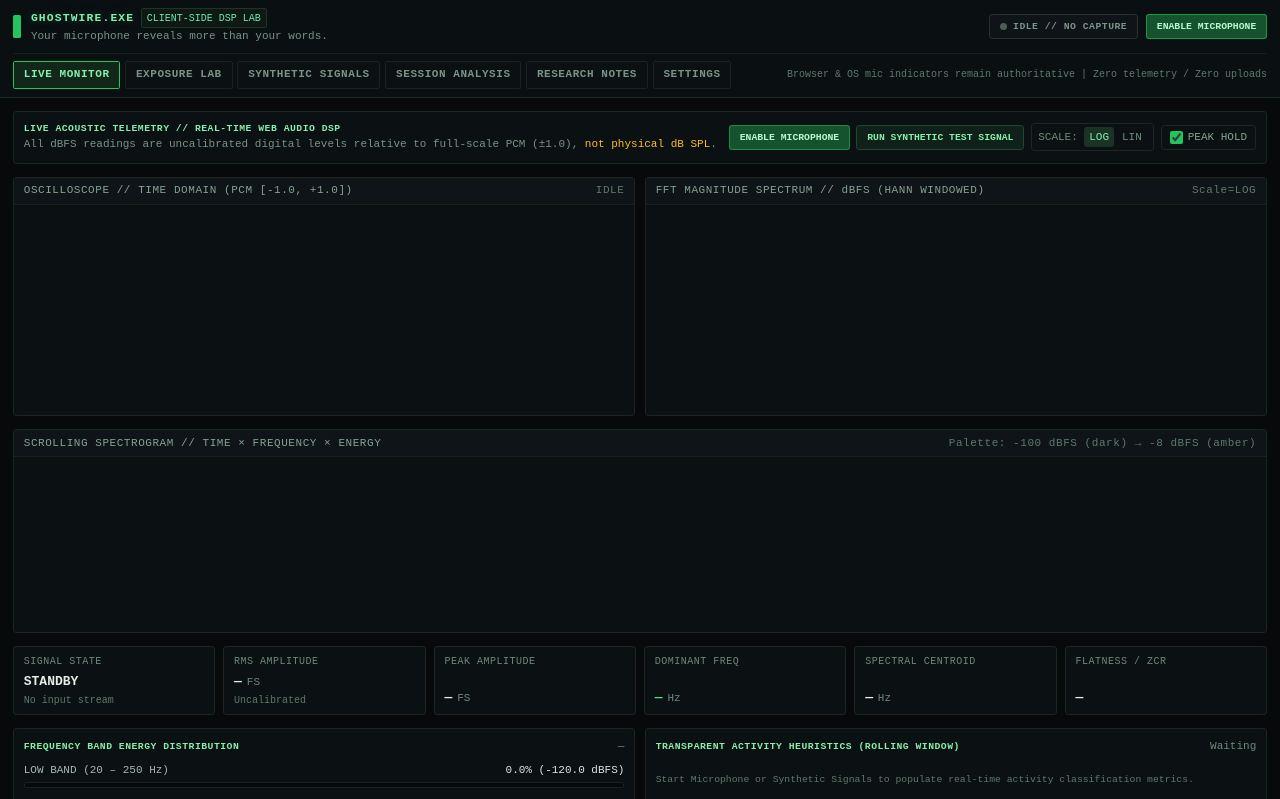
Test: GHOSTWIRE.EXE Privacy, Microphone Lifecycle & Synthetic Integration › restores opted-in sessions on mount without writing an empty list
Step 1. Click the button "SESSION ANALYSIS" → [453, 75], box [385,60,521,89]
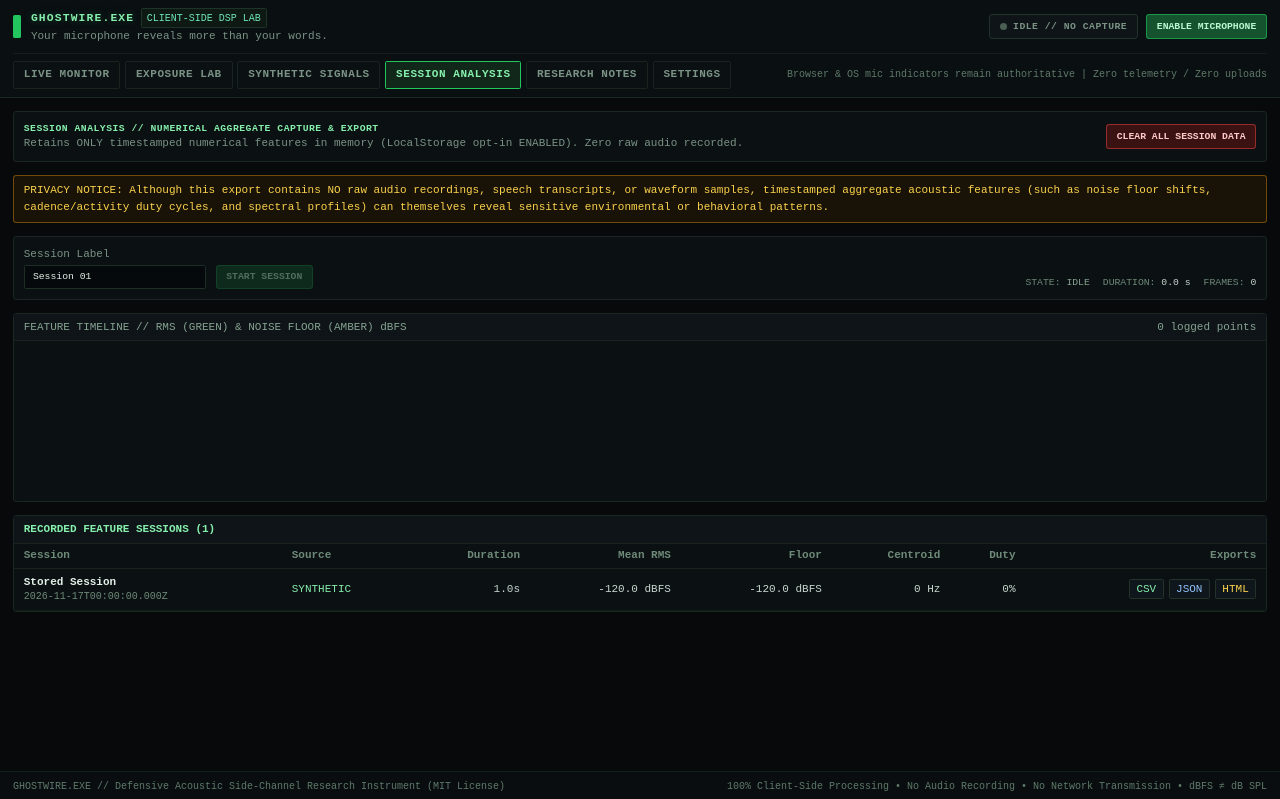
Expected: the text "RECORDED FEATURE SESSIONS (1)" is shown, [14,516,1266,544]
Expected: the text "Stored Session" is shown, [24,576,116,588]
// The opt-in survives the reload and the previously stored payload is intact.
Step 2. Click the button "SETTINGS" → [692, 75], box [653,60,731,89]
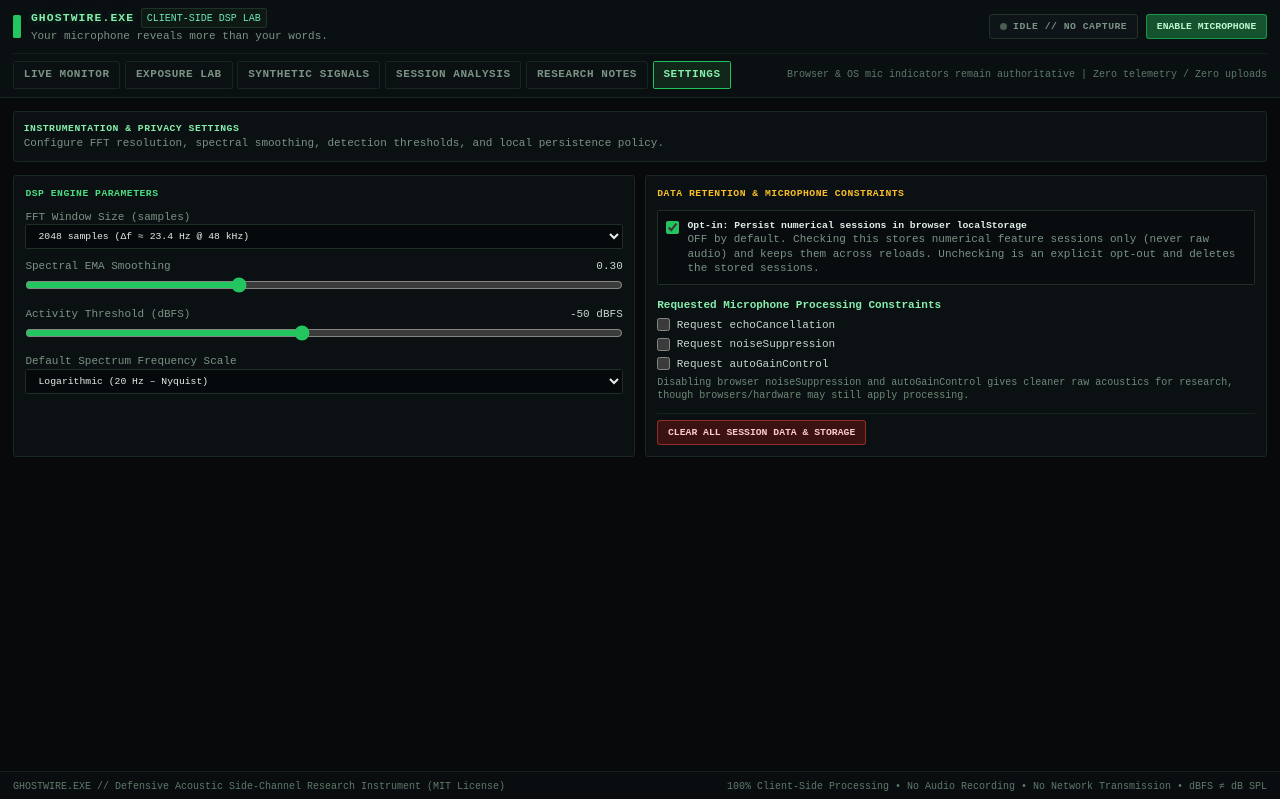
Expected: the 1st checkbox is checked, [666,220,679,234]
